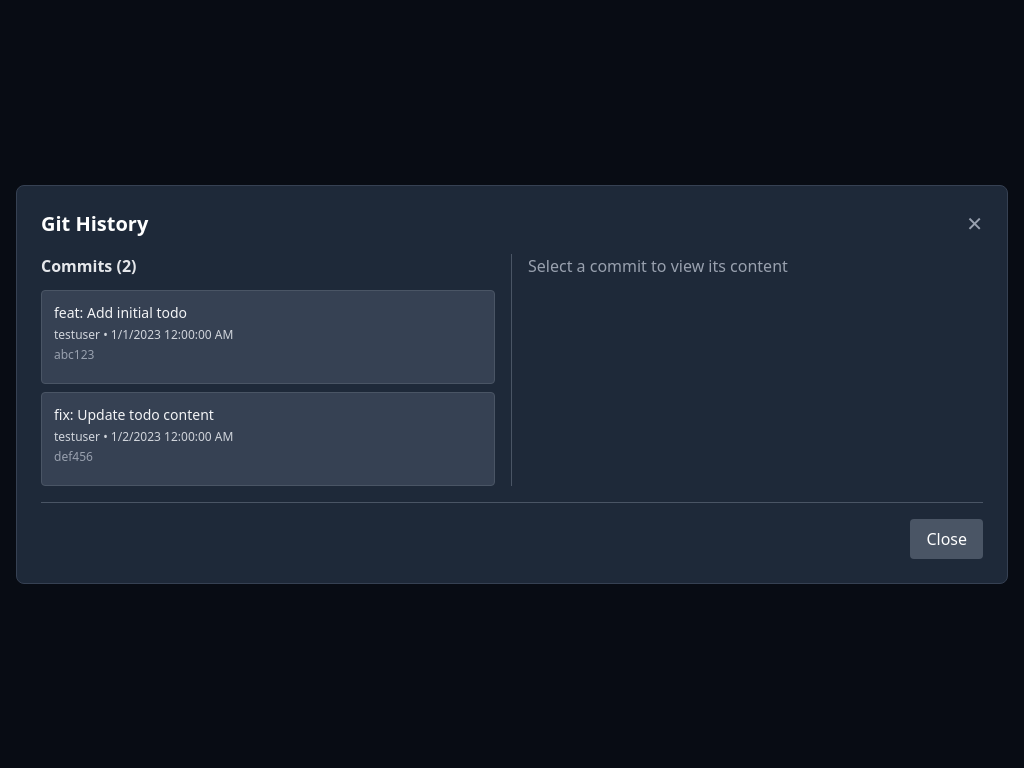
Scenario: GitHistory Component › should handle malformed frontmatter gracefully
The width and height of the screenshot is (1024, 768).
Expected: the heading "Git History" is shown, [41,211,156,236]
// Click on the first commit to preview
Click the text "feat: Add initial todo" at {"x": 121, "y": 312}, box [54,302,187,322]
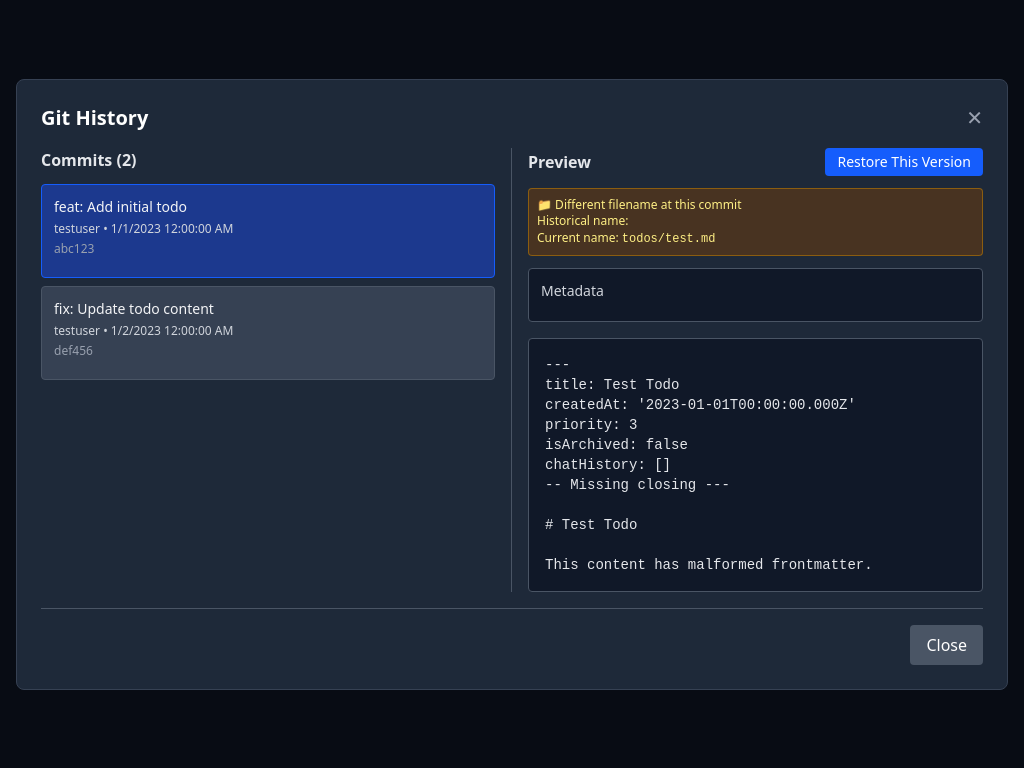
Now the text "This content has malformed frontmatter" is shown, box [545,356,873,572]
